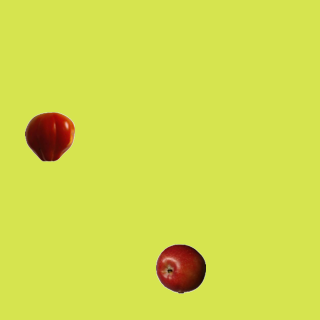Apple Braeburn: (155, 243, 205, 293)
Tomato 1: (24, 111, 74, 161)
